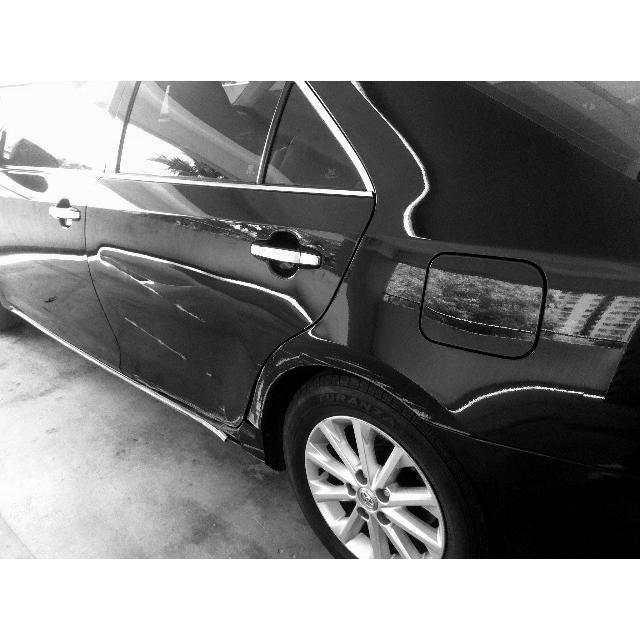Runningboard-Damage: (83, 380, 259, 450)
quaterpanel-dent: (271, 312, 591, 489)
